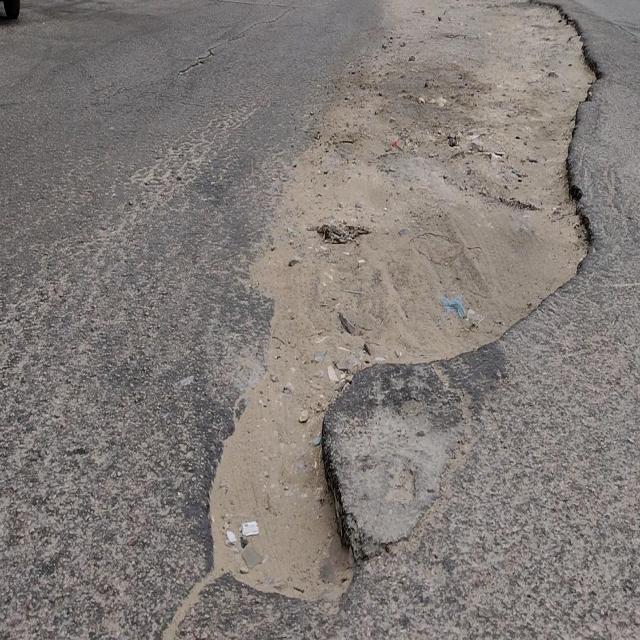Potholes: (204, 393, 364, 607), (497, 168, 594, 319), (559, 44, 605, 113), (526, 0, 568, 32)
